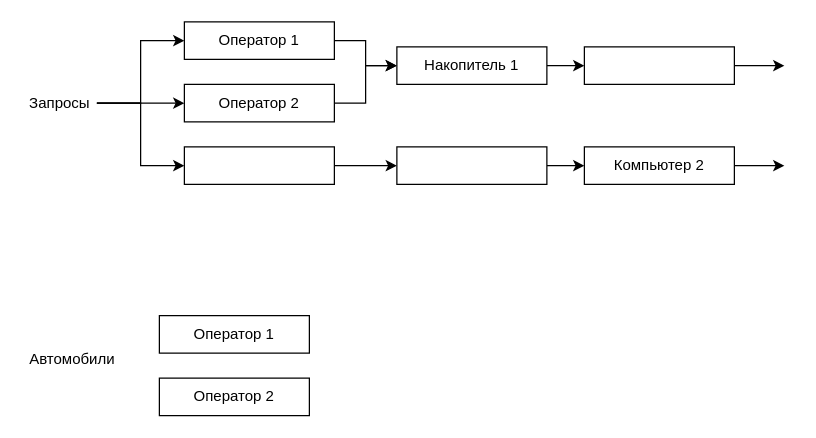
Some shapes in this 816 by 438 pixel diagram are drawn without their labels. The shapes that lost their labels are listed below. From the top down, each one's box as (x1, y1, x2, y2) in pixels, then its label:
(583, 46, 734, 84): Компьютер 1
(183, 146, 334, 184): Оператор 3
(396, 146, 547, 184): Накопитель 2
